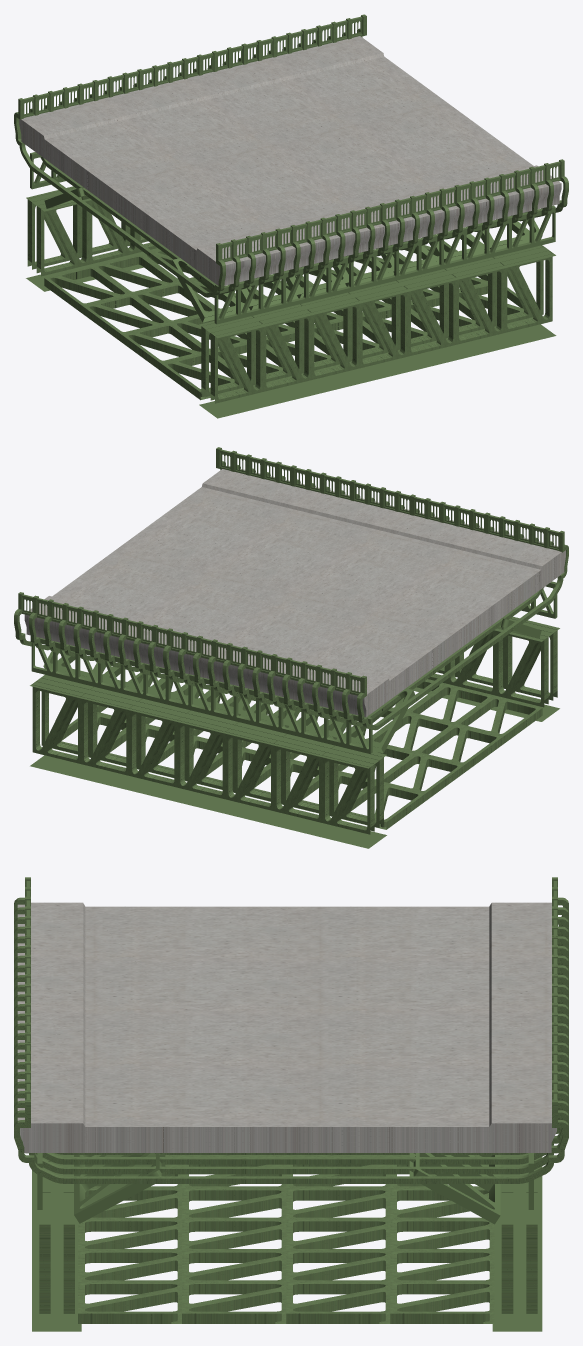
File: born.fbx
3 renders of one model, top to bottom at view 1: azimuth 30°, elevation 25°; view 2: azimuth 150°, elevation 25°; view 3: azimuth 270°, elevation 25°, orthographic. The views are drawn at different scales.
Parts seen in each view (by area): view 1: bridge_01; view 2: bridge_01; view 3: bridge_01.
Boxes of the visible parts, box(x1,y1,x2,y2) form: bridge_01: box(14, 14, 568, 418); bridge_01: box(14, 447, 568, 848); bridge_01: box(14, 877, 568, 1331).
Bounding box in the file's own units: 2389 × 1156 × 2491.
Materials: 2 (2 with a texture image).
